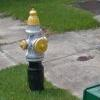Hydrant: (17, 3, 53, 89)
